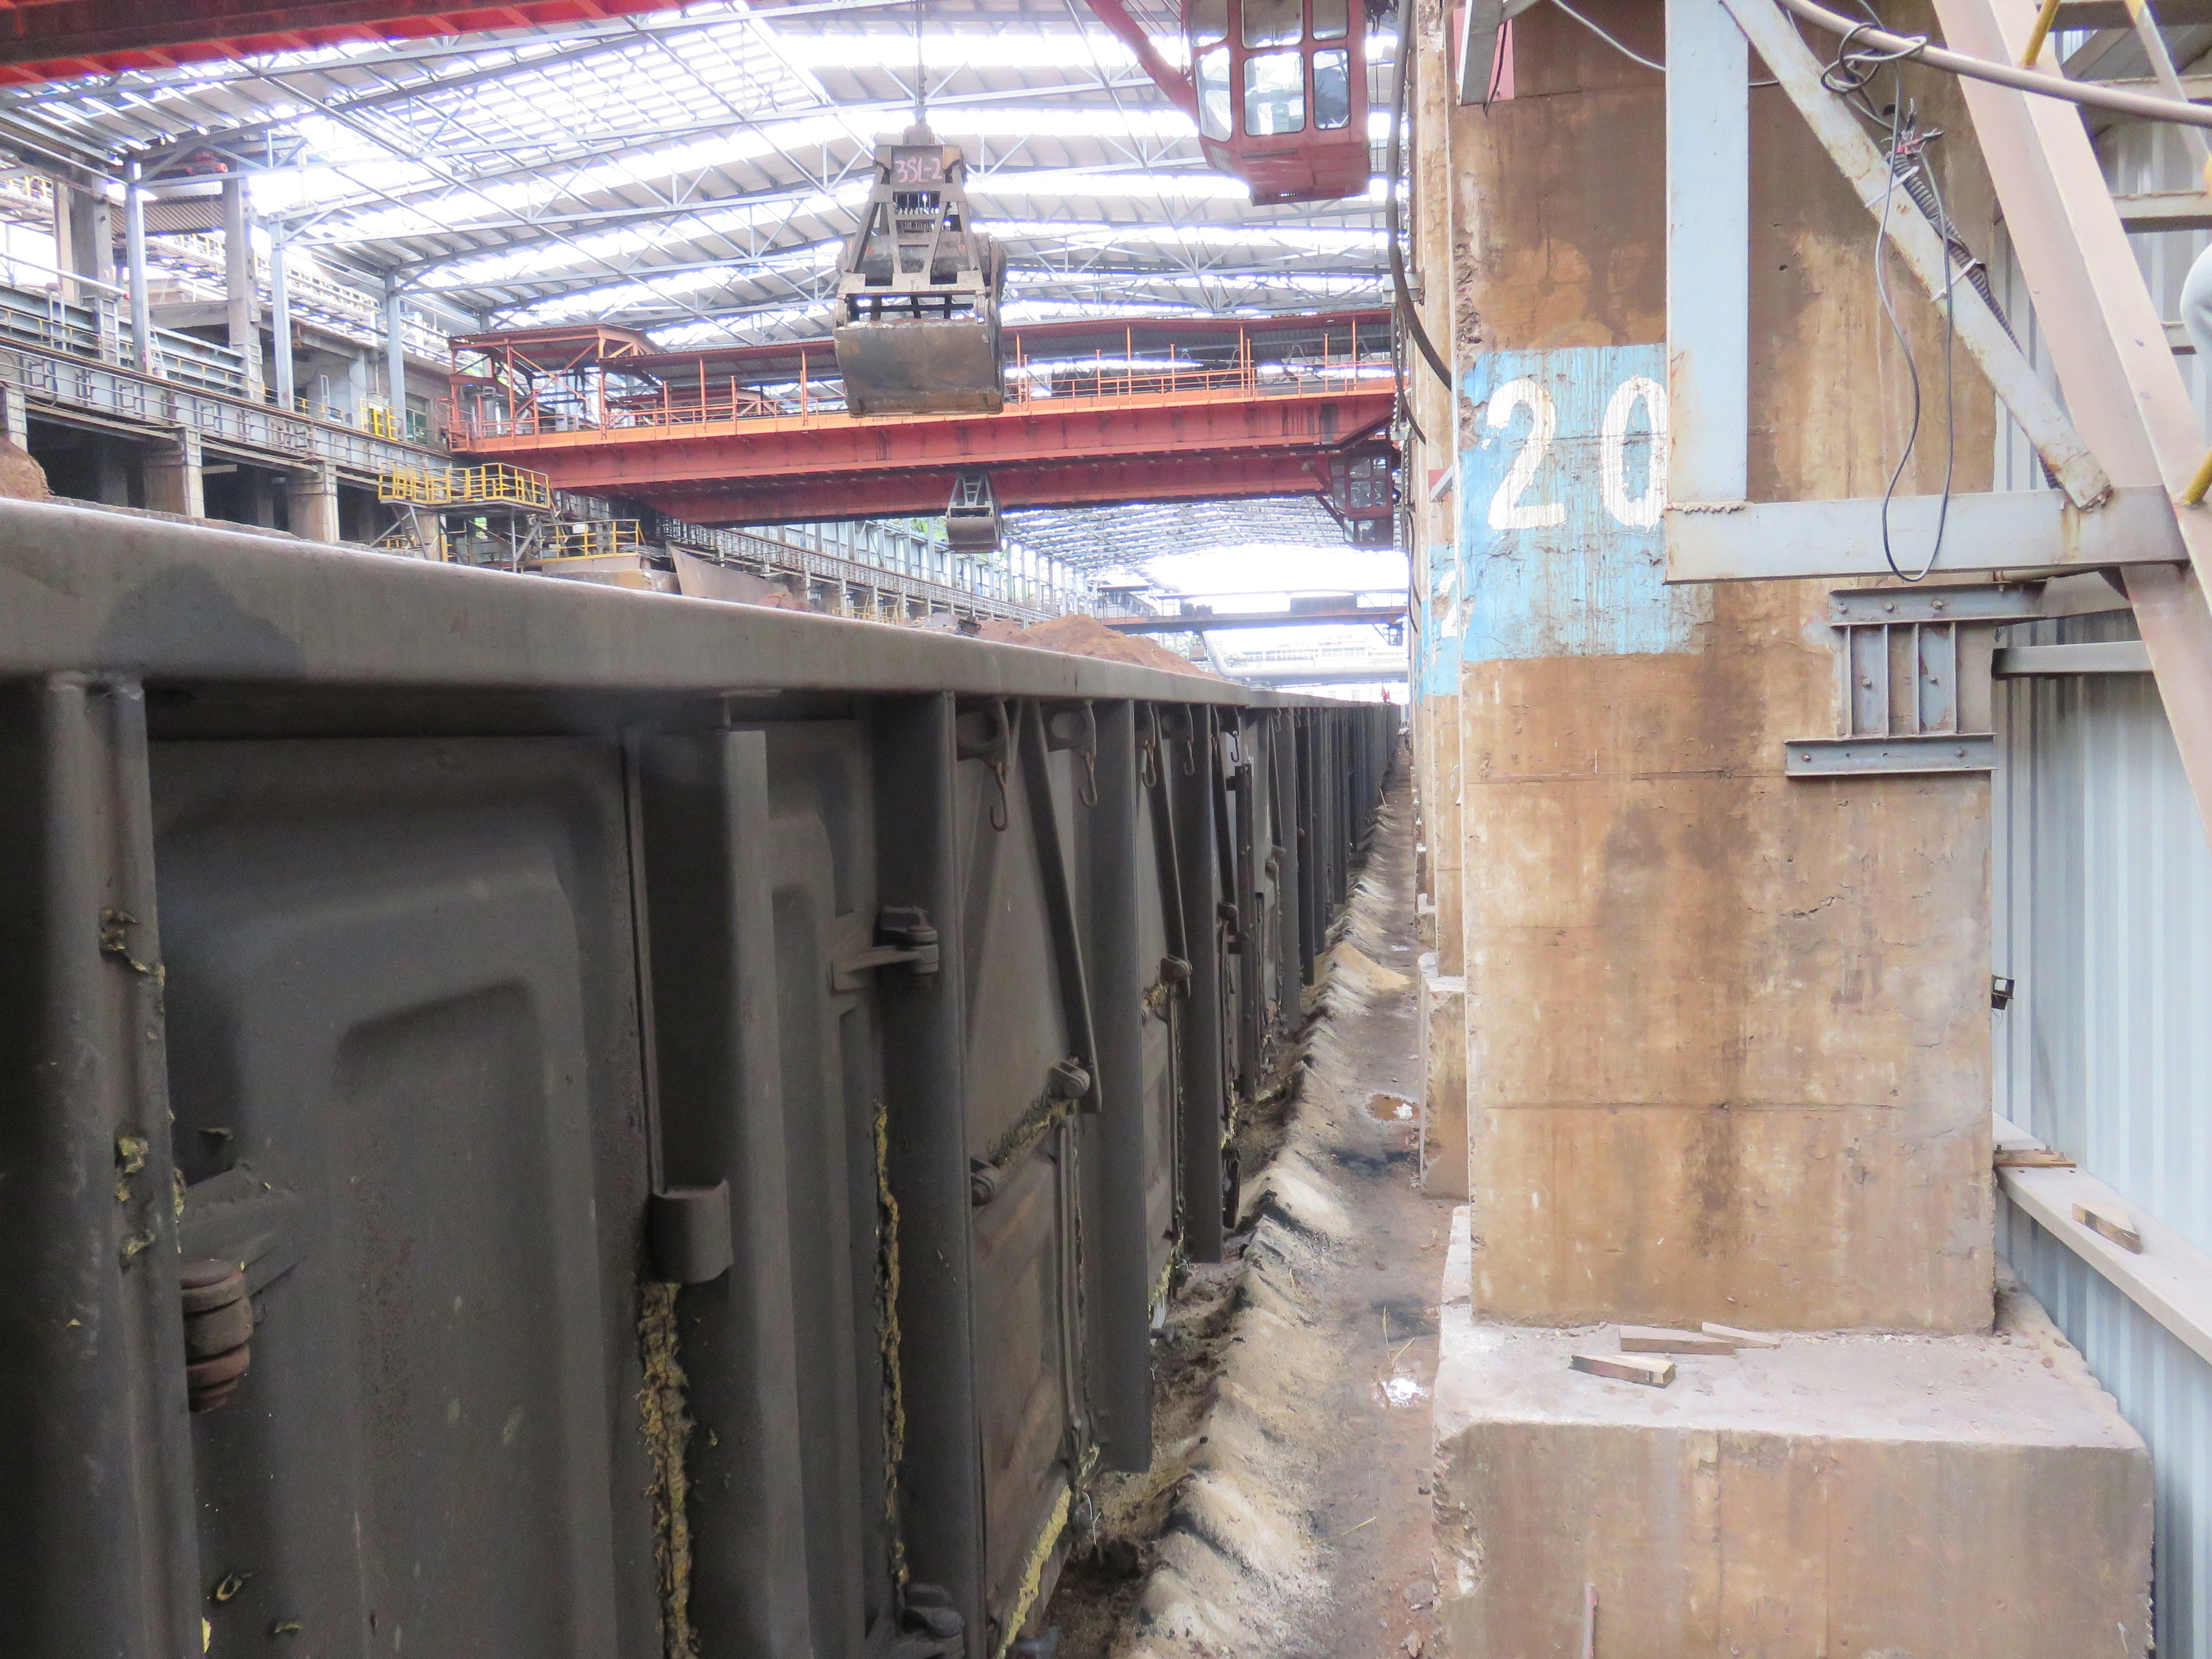grab: (820, 120, 1035, 420)
